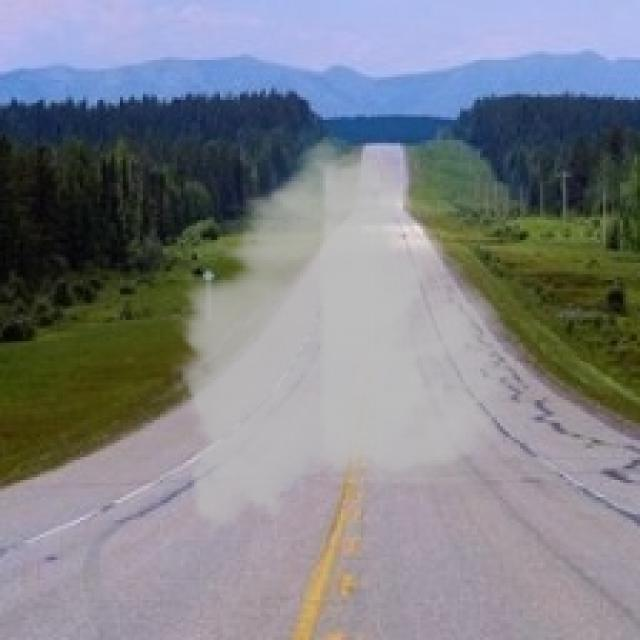smoke: (165, 126, 526, 548)
